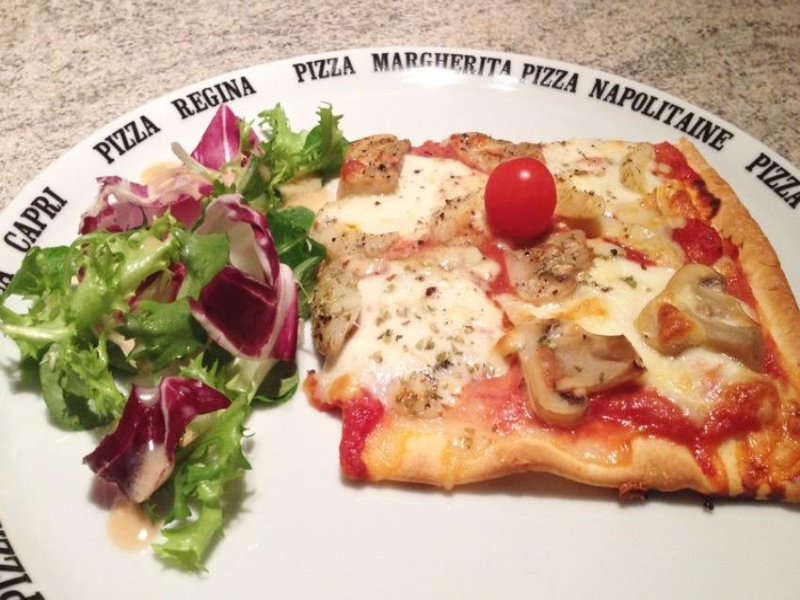champignon: (508, 312, 648, 434), (637, 259, 769, 370)
